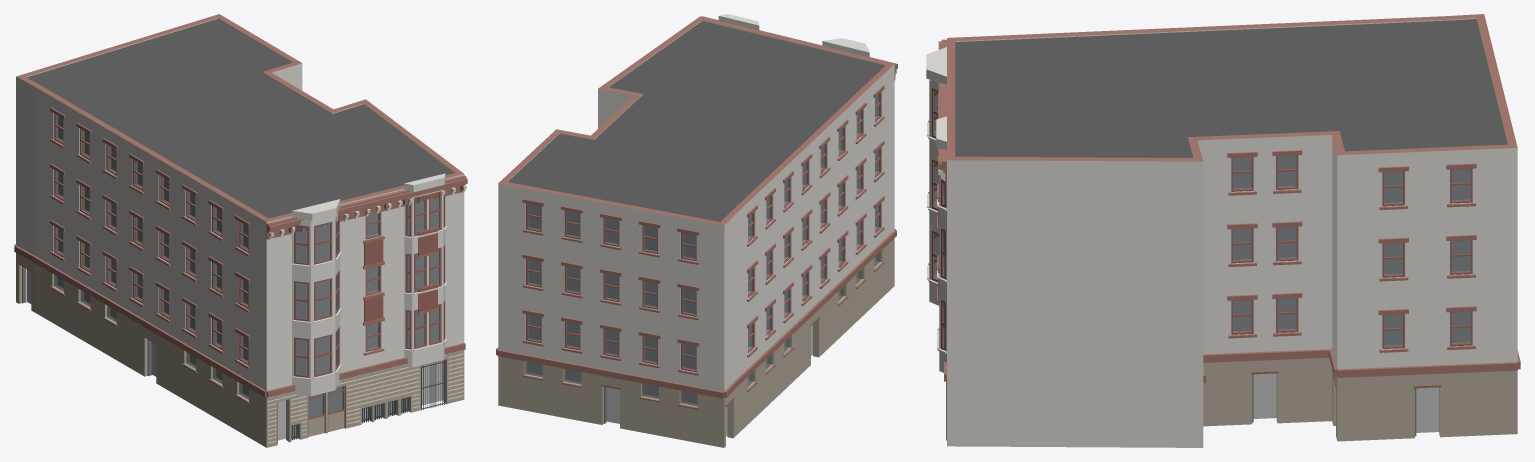
File: exterior.glb
The picture shows the model from 3 angles, left to right: view 1: azimuth 30°, elevation 25°; view 2: azimuth 150°, elevation 25°; view 3: azimuth 270°, elevation 25°; orthographic projection. The views are drawn at different scales.
Visible parts, largest first — view 1: shell, roof, shadow-proxy, trim, bay-windows, bay-glazing, glazing, frames, storefront, hand-ornament, hyD-rubble-1, front-dressing-r4; view 2: shell, roof, trim, glazing, shadow-proxy, frames, bay-windows; view 3: shell, roof, shadow-proxy, trim, glazing, frames, bay-windows, bay-glazing.
Part boxes in pixels (bbox=[...]): shell: bbox=[16, 14, 464, 447]; roof: bbox=[27, 18, 453, 218]; shadow-proxy: bbox=[27, 116, 443, 440]; trim: bbox=[14, 107, 467, 403]; bay-windows: bbox=[292, 173, 447, 396]; bay-glazing: bbox=[294, 191, 444, 377]; glazing: bbox=[54, 114, 378, 417]; frames: bbox=[53, 113, 380, 365]; storefront: bbox=[18, 262, 446, 443]; hand-ornament: bbox=[363, 192, 439, 324]; hyD-rubble-1: bbox=[268, 350, 463, 443]; front-dressing-r4: bbox=[268, 185, 466, 239]; shell: bbox=[498, 16, 894, 447]; roof: bbox=[508, 21, 885, 221]; trim: bbox=[496, 16, 897, 409]; glazing: bbox=[525, 94, 880, 406]; shadow-proxy: bbox=[527, 98, 875, 436]; frames: bbox=[526, 92, 881, 372]; bay-windows: bbox=[718, 14, 869, 57]; shell: bbox=[947, 14, 1517, 447]; roof: bbox=[955, 19, 1507, 157]; shadow-proxy: bbox=[1233, 156, 1470, 432]; trim: bbox=[938, 39, 1520, 383]; glazing: bbox=[1233, 155, 1470, 346]; frames: bbox=[1231, 155, 1472, 348]; bay-windows: bbox=[926, 47, 946, 372]; bay-glazing: bbox=[931, 88, 945, 350].
Size of the model in its own units: 14.01 by 12.84 by 23.62.
